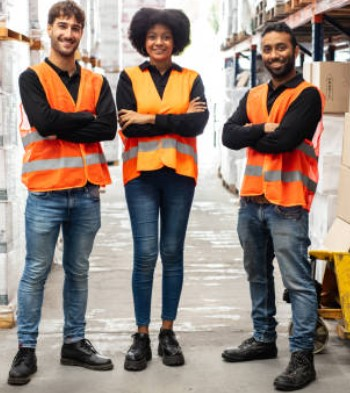worker: (18, 2, 114, 190), (240, 27, 319, 214), (122, 7, 199, 184)
